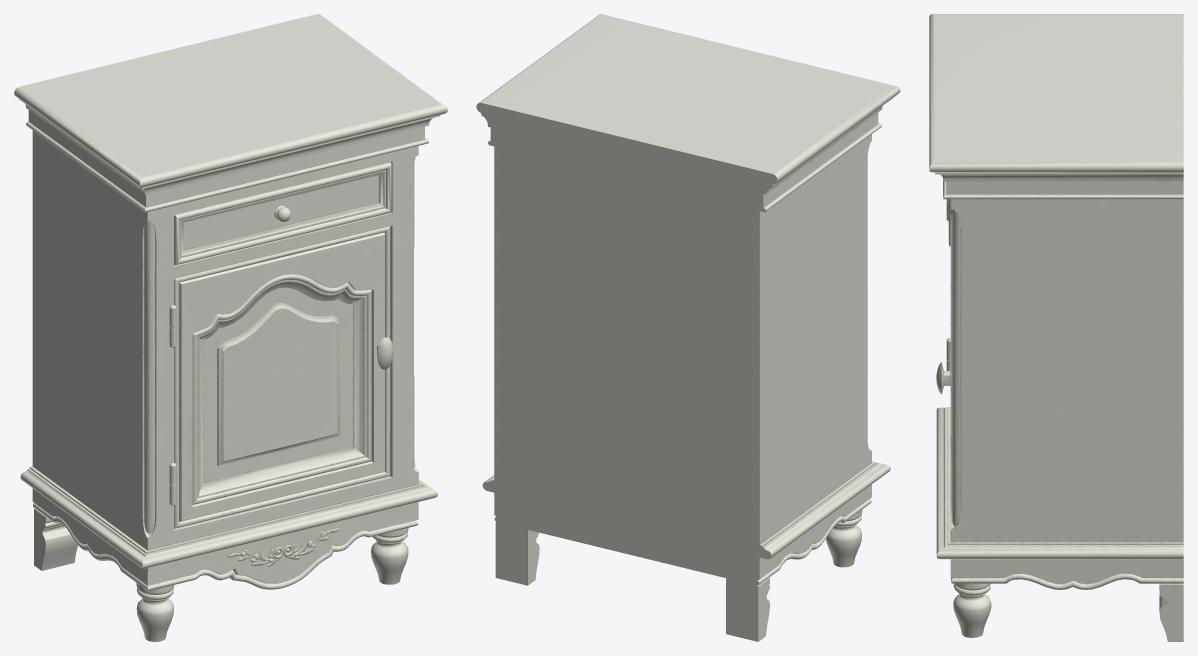
Rendered from example173.glb.
3 views of the same model, side by side, from view 1: azimuth 30°, elevation 25°; view 2: azimuth 150°, elevation 25°; view 3: azimuth 270°, elevation 25° (orthographic). The views are drawn at different scales.
Parts seen in each view (by area): view 1: Buffer Layer; view 2: Buffer Layer; view 3: Buffer Layer.
Part boxes in pixels (bbox=[...]): Buffer Layer: bbox=[14, 14, 447, 641]; Buffer Layer: bbox=[476, 14, 900, 641]; Buffer Layer: bbox=[929, 14, 1183, 641].
Size of the model in its own units: 0.575 by 0.86 by 0.4067.
1 material, 1 textured.
